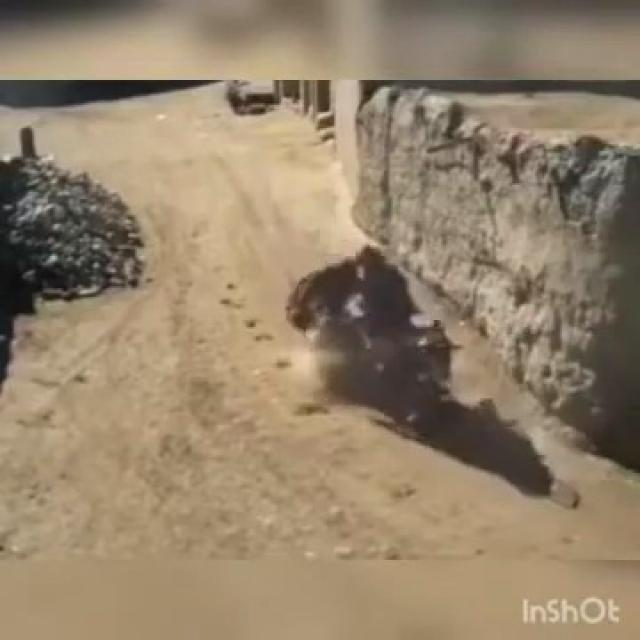accident: (292, 242, 468, 436)
